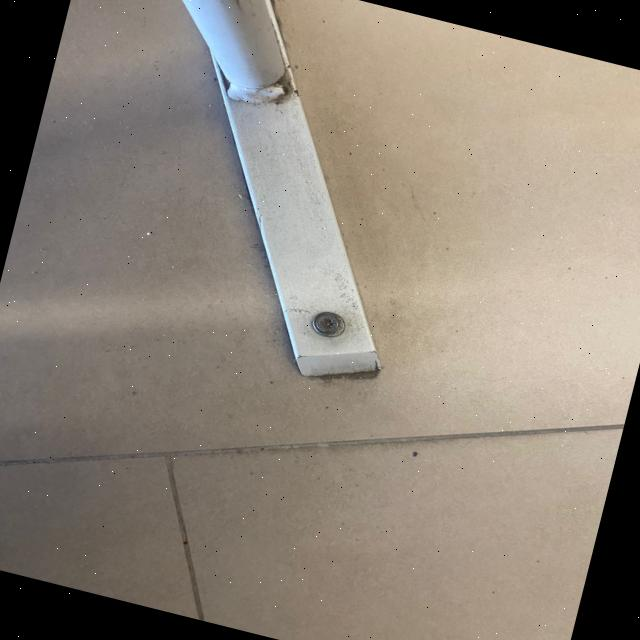Torx: (310, 312, 342, 336)
